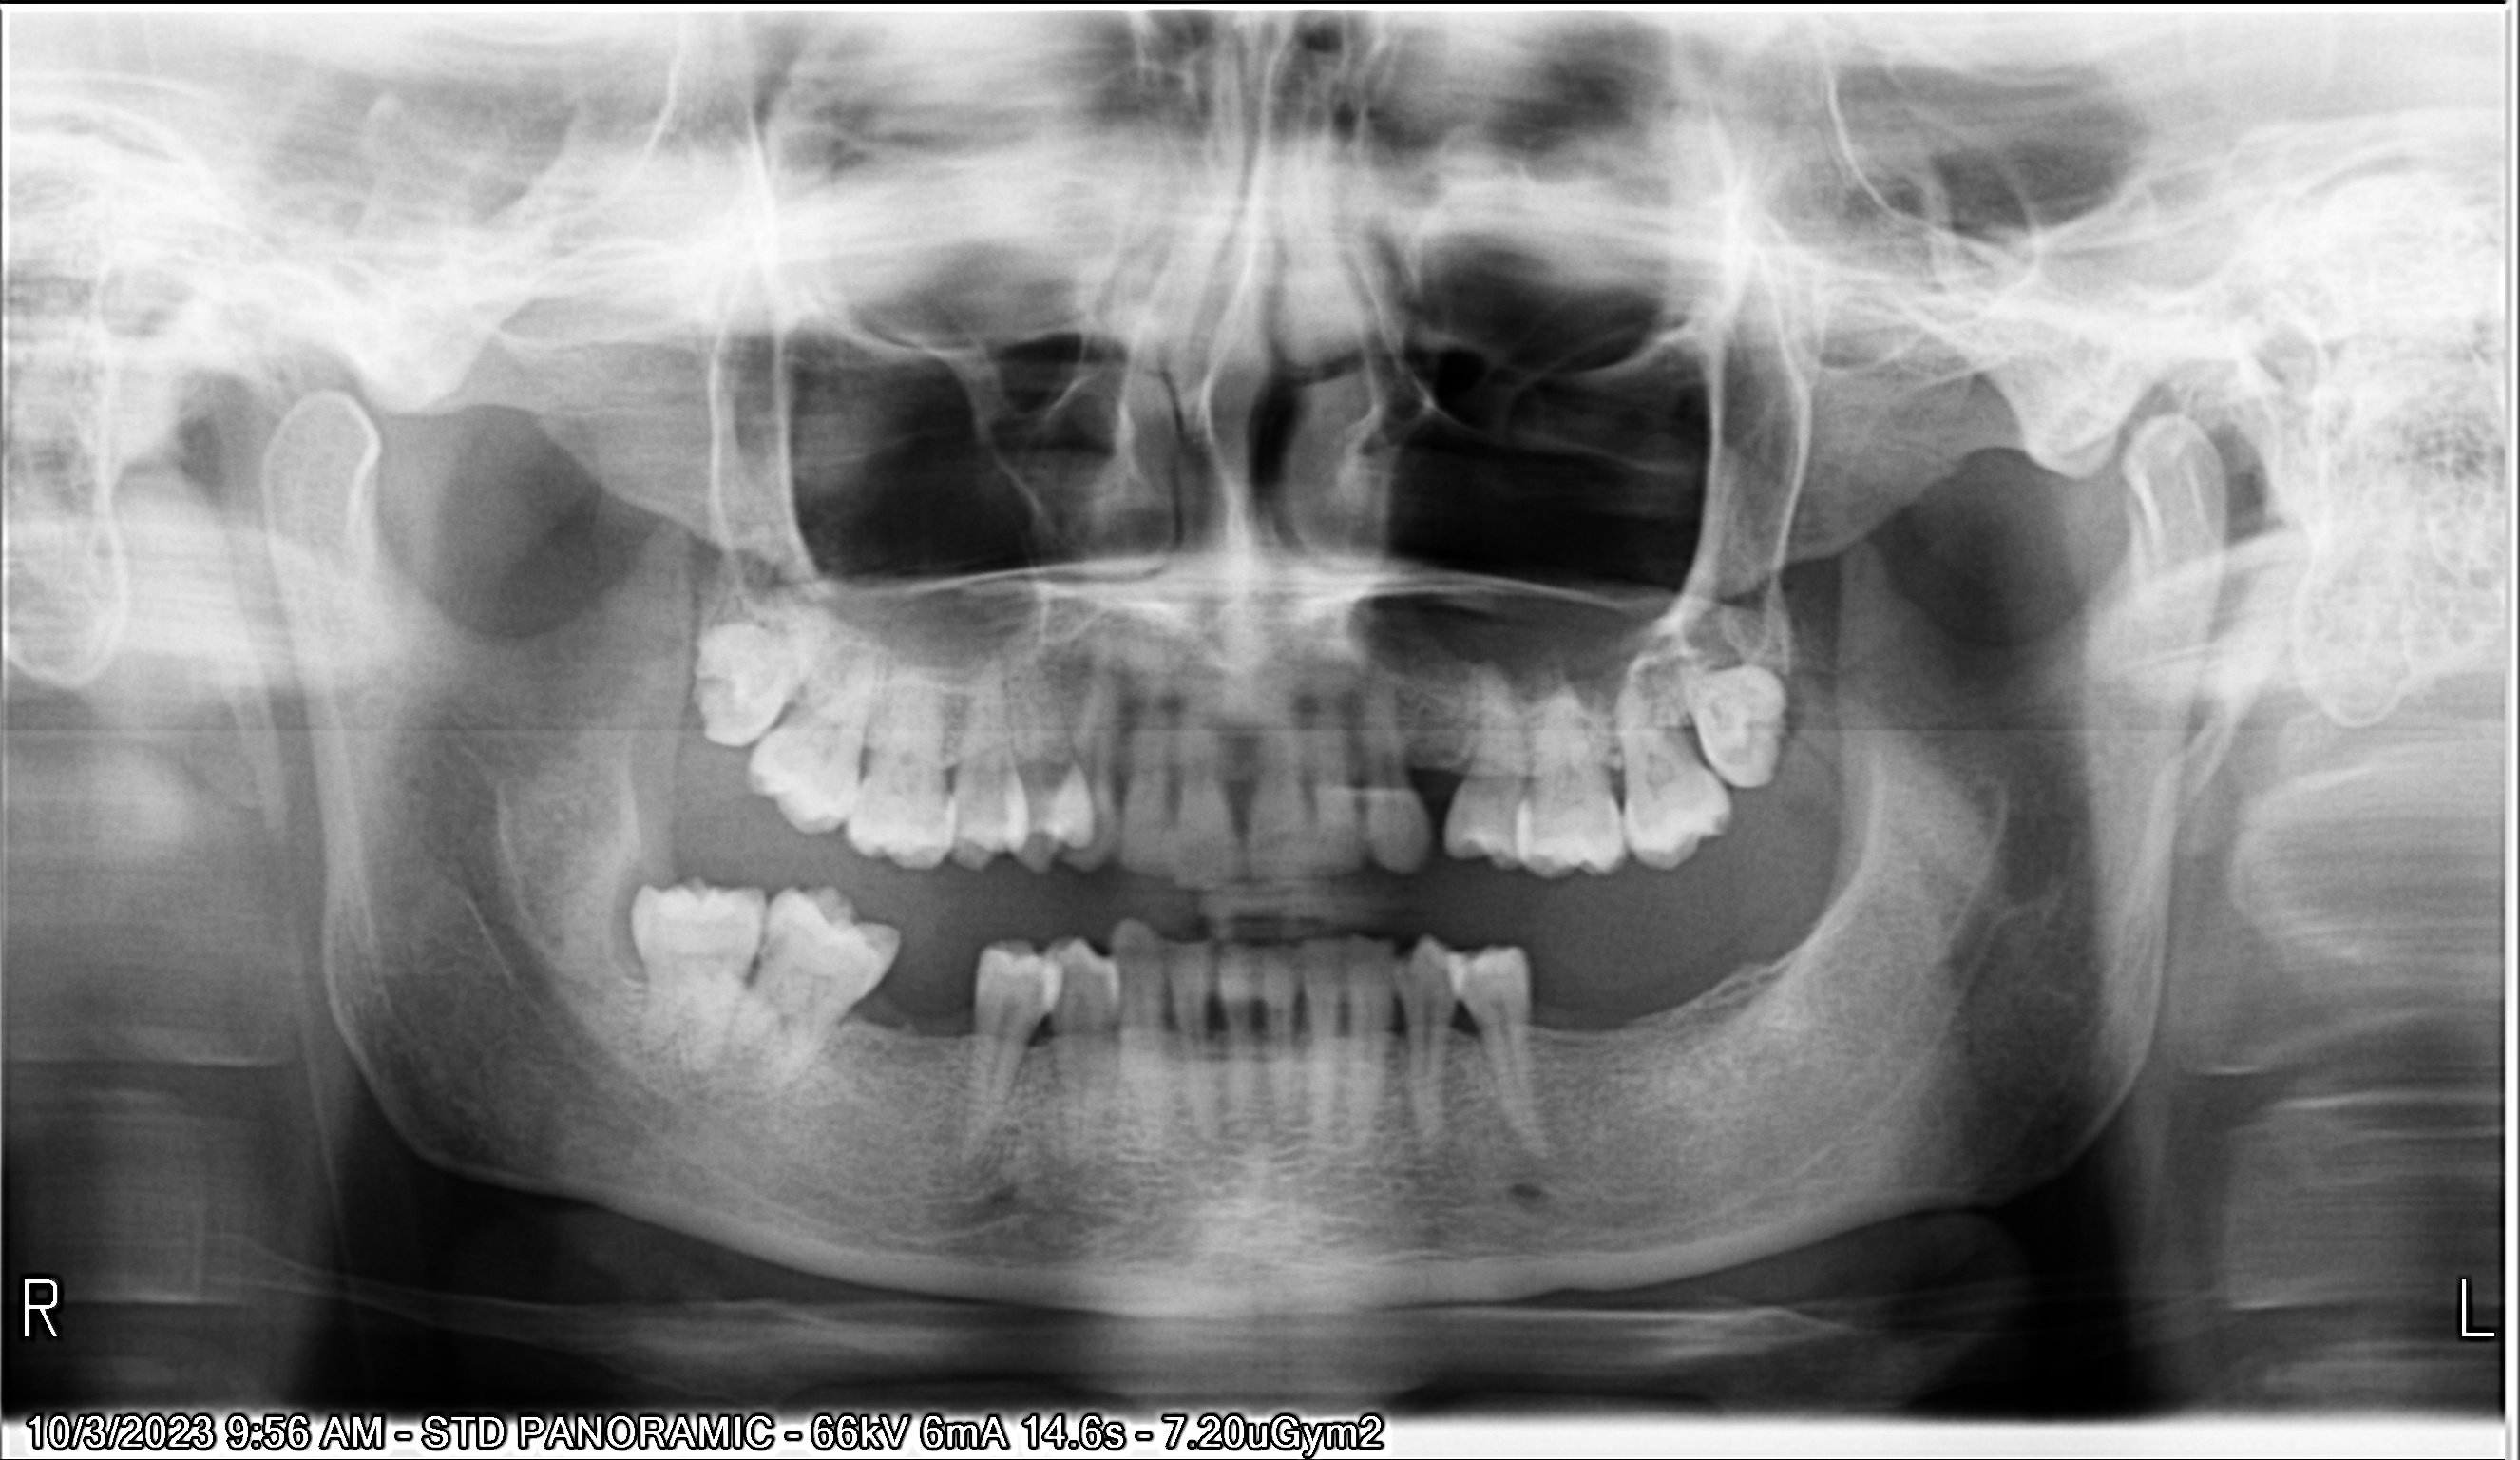CAR: (742, 909, 806, 977)
IMT: (688, 607, 835, 753), (1671, 645, 1806, 798)
